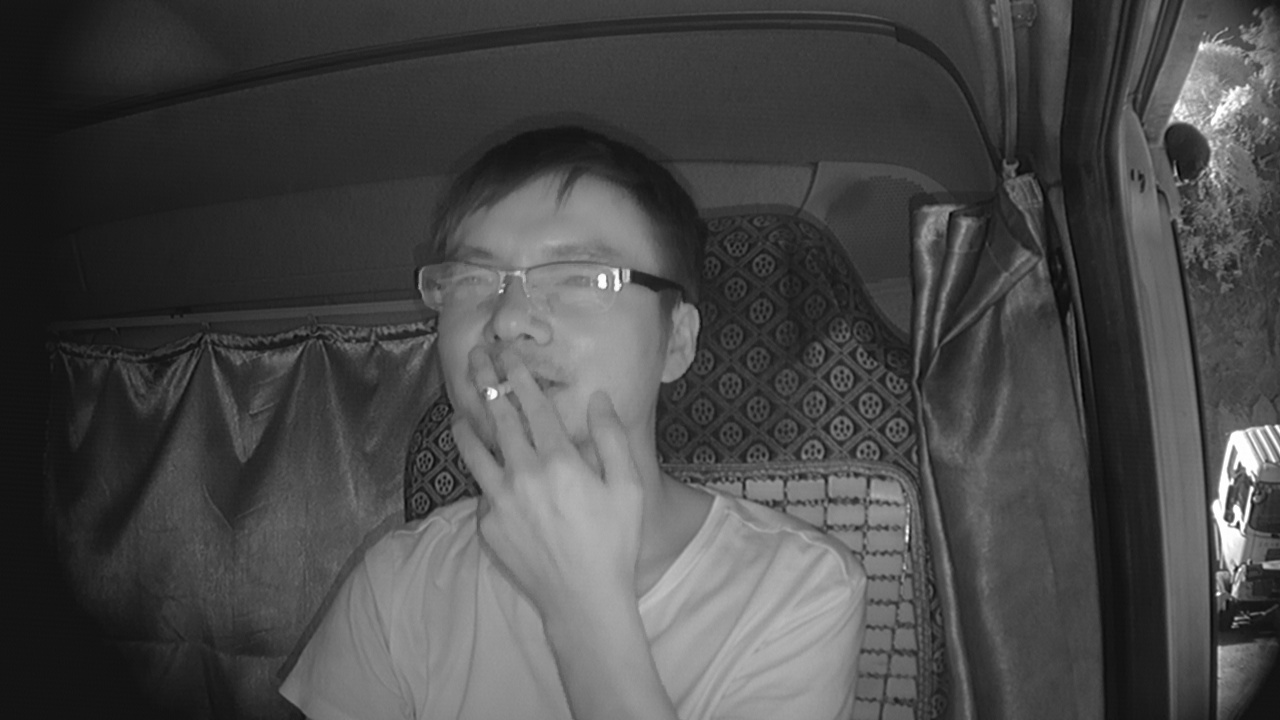hand: (444, 349, 636, 597)
